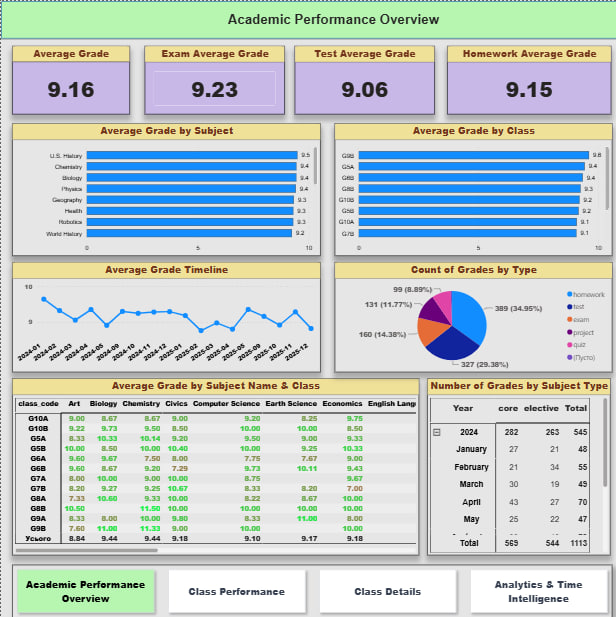

The page's visual inventory and layout, read from the dashboard file:
{"tool":"powerbi","page":{"name":"Academic Performance Overview","canvas":[1240,1250],"ordinal":0},"visuals":[{"type":"cardVisual","title":"Average Grade","fields":{"Data":["_Measures.Average Grade Measure"]},"box":[21.7,90,235,136.7],"z":0},{"type":"cardVisual","title":"Exam Average Grade","fields":{"Data":["_Measures.Exam Average Grade Measure"]},"box":[288.3,90,280,136.7],"z":1000},{"type":"cardVisual","title":"Test Average Grade","fields":{"Data":["_Measures.Test Average Grade Measure"]},"box":[586.7,90,280,136.7],"z":2000},{"type":"cardVisual","title":"Homework Average Grade","fields":{"Data":["_Measures.Homework Average Grade Measure"]},"box":[891.7,90,328.3,136.7],"z":3000},{"type":"clusteredBarChart","title":"Average Grade by Subject","fields":{"Category":["subjects.subject_name"],"Y":["_Measures.Average Grade Measure"]},"box":[21.7,245,616.7,265],"z":4000},{"type":"clusteredBarChart","title":" Average Grade by Class","fields":{"Category":["classes.class_code"],"Y":["_Measures.Average Grade Measure"]},"box":[666.7,245,555,265],"z":5000},{"type":"lineChart","title":"Average Grade Timeline","fields":{"Y":["_Measures.Average Grade Measure"],"Category":["Calendar.Year-Month"]},"box":[21.7,523.3,616.7,220],"z":6000},{"type":"pivotTable","title":" Average Grade by Subject Name & Class","fields":{"Rows":["classes.class_code"],"Columns":["subjects.subject_name"],"Values":["_Measures.Average Grade Measure"]},"box":[21.7,755,813.3,353.3],"z":7000},{"type":"pieChart","title":"Count of Grades by Type","fields":{"Category":["grades.grade_type"],"Y":["Count(grades.grade_id)"]},"box":[666.7,523.3,555,220],"z":8000},{"type":"pivotTable","title":"Number of Grades by Subject Type","fields":{"Columns":["subjects.subject_type"],"Values":["Count(grades.grade_id)"],"Rows":["Calendar.Year","Calendar.Month"]},"box":[853.3,755,366.7,353.3],"z":9000},{"type":"pageNavigator","box":[21.7,1128.3,1200,106.7],"z":10000},{"type":"shape","title":"Analytics & Time Intelligence","box":[0,0,1280,76],"z":11000},{"type":"textbox","box":[368.3,0,555,75],"z":11501}]}

Visuals, with their boxes in screenshot pixels (x1, y1, x2, y2), scaled from the page's 1240x1250 canvas onto the 616x617 screenshot:
"Average Grade" cardVisual: <region>11, 44, 128, 112</region>
"Exam Average Grade" cardVisual: <region>143, 44, 282, 112</region>
"Test Average Grade" cardVisual: <region>291, 44, 431, 112</region>
"Homework Average Grade" cardVisual: <region>443, 44, 606, 112</region>
"Average Grade by Subject" clusteredBarChart: <region>11, 121, 317, 252</region>
" Average Grade by Class" clusteredBarChart: <region>331, 121, 607, 252</region>
"Average Grade Timeline" lineChart: <region>11, 258, 317, 367</region>
" Average Grade by Subject Name & Class" pivotTable: <region>11, 373, 415, 547</region>
"Count of Grades by Type" pieChart: <region>331, 258, 607, 367</region>
"Number of Grades by Subject Type" pivotTable: <region>424, 373, 606, 547</region>
pageNavigator: <region>11, 557, 607, 610</region>
"Analytics & Time Intelligence" shape: <region>0, 0, 615, 38</region>
textbox: <region>183, 0, 459, 37</region>
